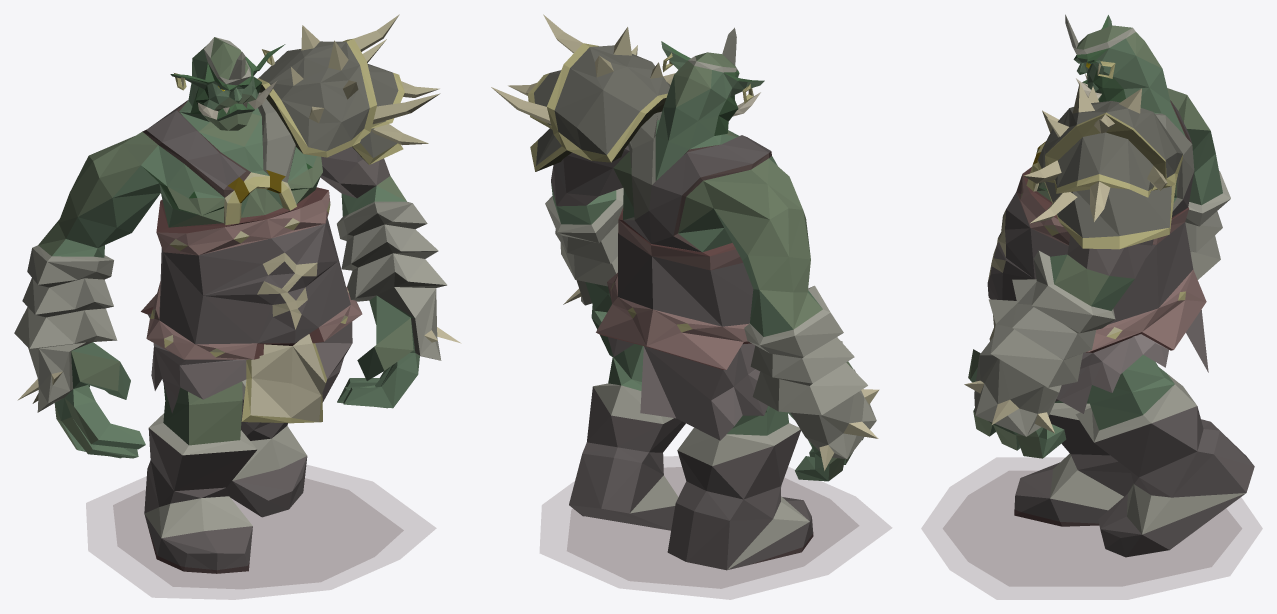
Rendered from graardor.glb.
The picture shows the model from 3 angles, left to right: view 1: azimuth 30°, elevation 25°; view 2: azimuth 150°, elevation 25°; view 3: azimuth 270°, elevation 25°; orthographic projection. The views are drawn at different scales.
Bounding box in the file's own units: 459 × 550 × 334.
2 materials, 2 textured.
